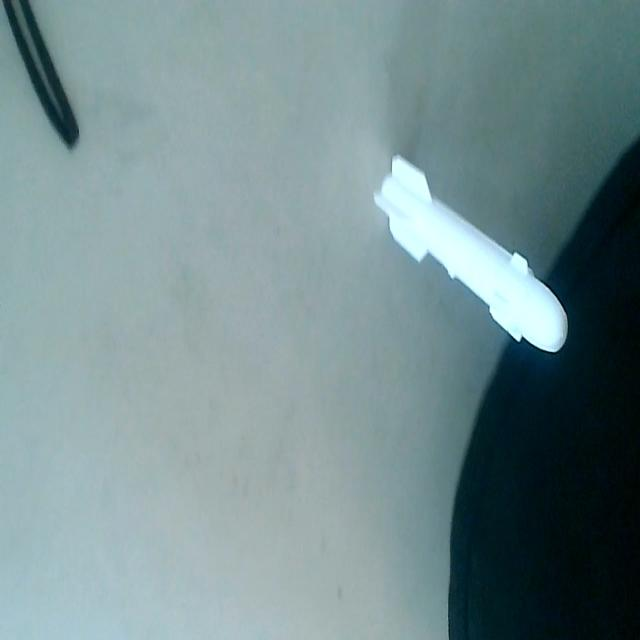Rocket: (372, 141, 570, 364)
